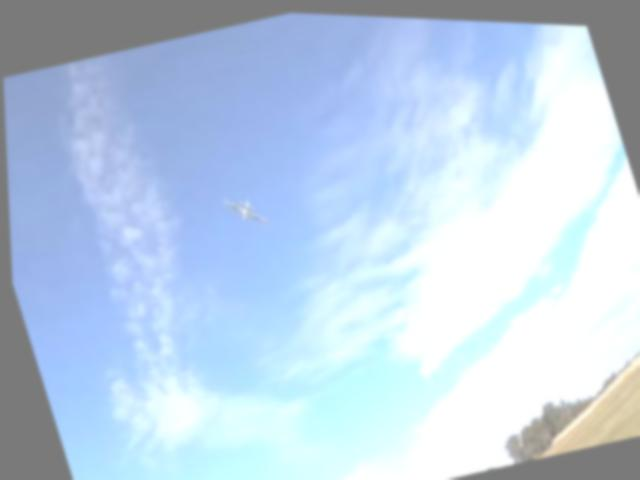uav: (212, 178, 273, 236)
